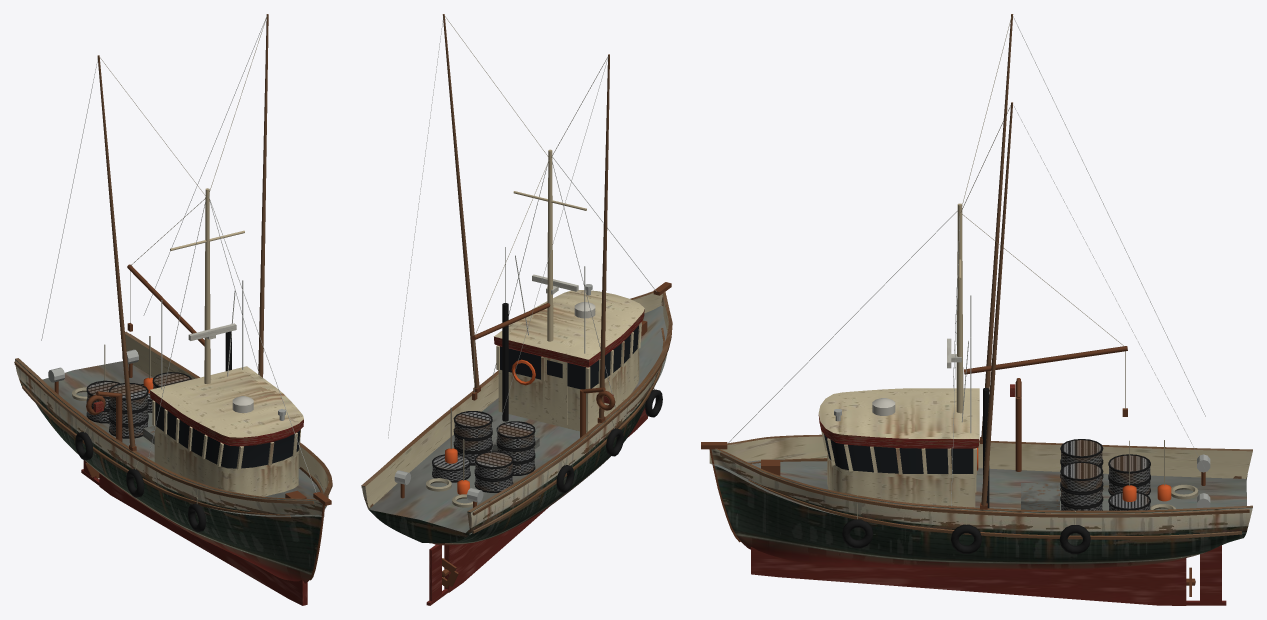
Rendered from fishingBoat-b-lod0.glb.
3 views of the same model, side by side, from view 1: azimuth 30°, elevation 25°; view 2: azimuth 150°, elevation 25°; view 3: azimuth 270°, elevation 25° (orthographic). The views are drawn at different scales.
Parts seen in each view (by area): view 1: Hull, Superstructure, Rig, Gear; view 2: Hull, Superstructure, Gear, Rig; view 3: Hull, Superstructure, Gear, Rig.
Part boxes in pixels (<box>): Hull: <box>14,331,332,605</box>; Superstructure: <box>149,366,303,496</box>; Rig: <box>41,14,316,492</box>; Gear: <box>48,336,331,532</box>; Hull: <box>361,291,672,605</box>; Superstructure: <box>494,290,644,432</box>; Gear: <box>394,282,671,507</box>; Rig: <box>388,14,656,462</box>; Hull: <box>709,434,1252,605</box>; Superstructure: <box>818,388,979,507</box>; Gear: <box>701,378,1210,554</box>; Rig: <box>727,14,1205,509</box>.
Size of the model in its own units: 5.07 by 13.85 by 12.68.
Materials: 1 (1 with a texture image).
